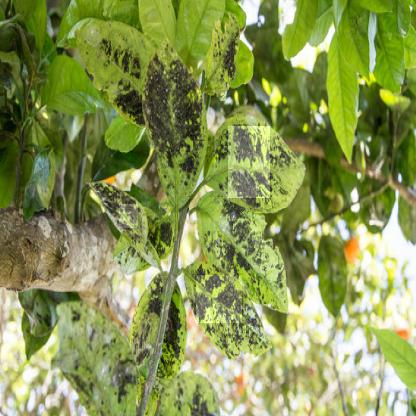black-spot: (212, 212, 264, 273), (228, 126, 271, 198), (154, 67, 186, 150), (196, 275, 242, 323), (119, 204, 138, 228)
